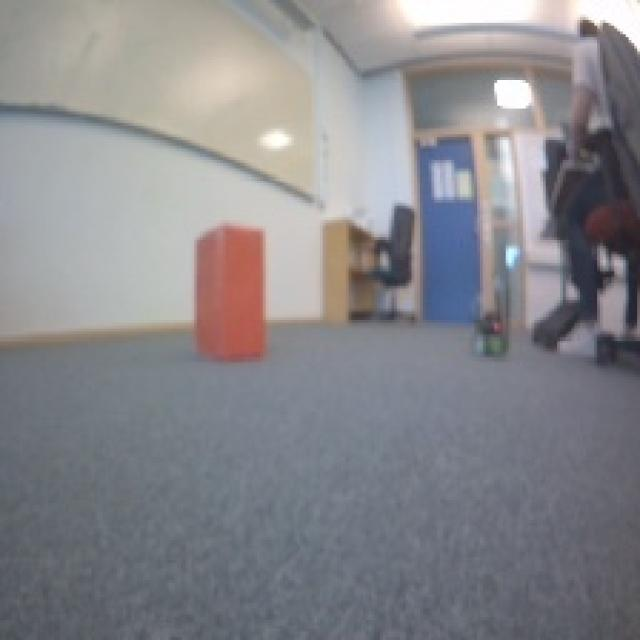robot: (470, 304, 514, 361)
target: (191, 220, 266, 360)
